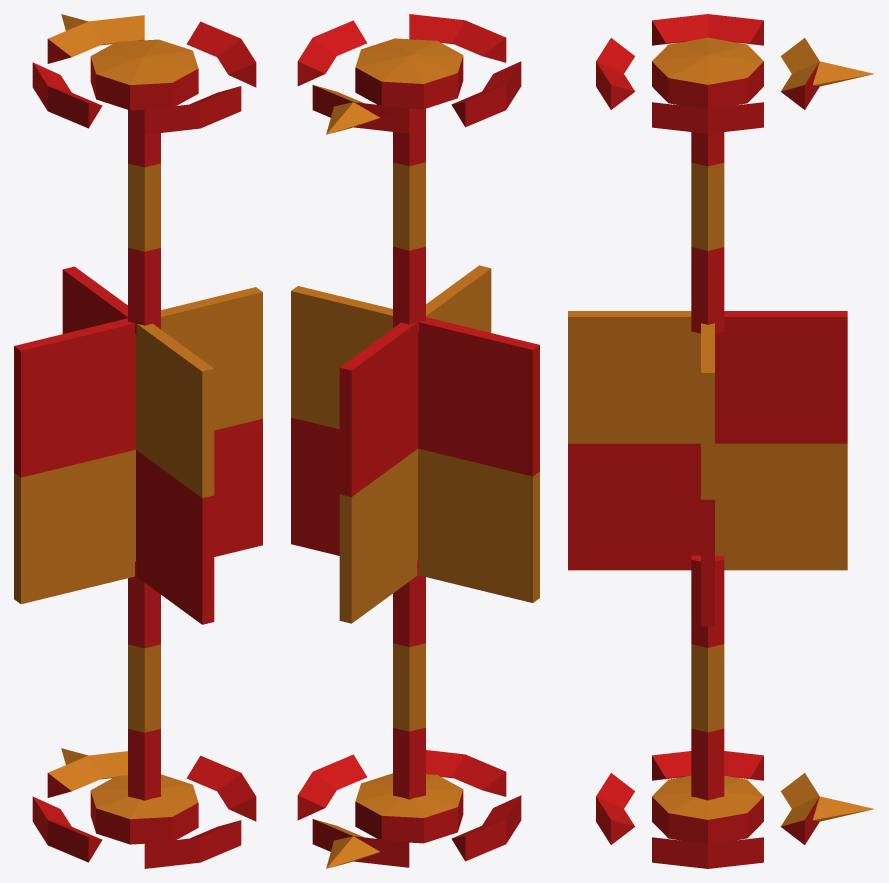
Rendered from INVISIBLE_ZCVOBSPOT.OBJ.
3 views of the same model, side by side, from view 1: azimuth 30°, elevation 25°; view 2: azimuth 150°, elevation 25°; view 3: azimuth 270°, elevation 25° (orthographic).
Parts seen in each view (by area): view 1: INVISIBLE_ZCVOBSPOT; view 2: INVISIBLE_ZCVOBSPOT; view 3: INVISIBLE_ZCVOBSPOT.
Part boxes in pixels (x1,y1,x2,y2): INVISIBLE_ZCVOBSPOT: (14, 14, 262, 868); INVISIBLE_ZCVOBSPOT: (291, 14, 539, 868); INVISIBLE_ZCVOBSPOT: (568, 14, 873, 868).
Bounding box in the file's own units: 1 × 3.05 × 1.1.
